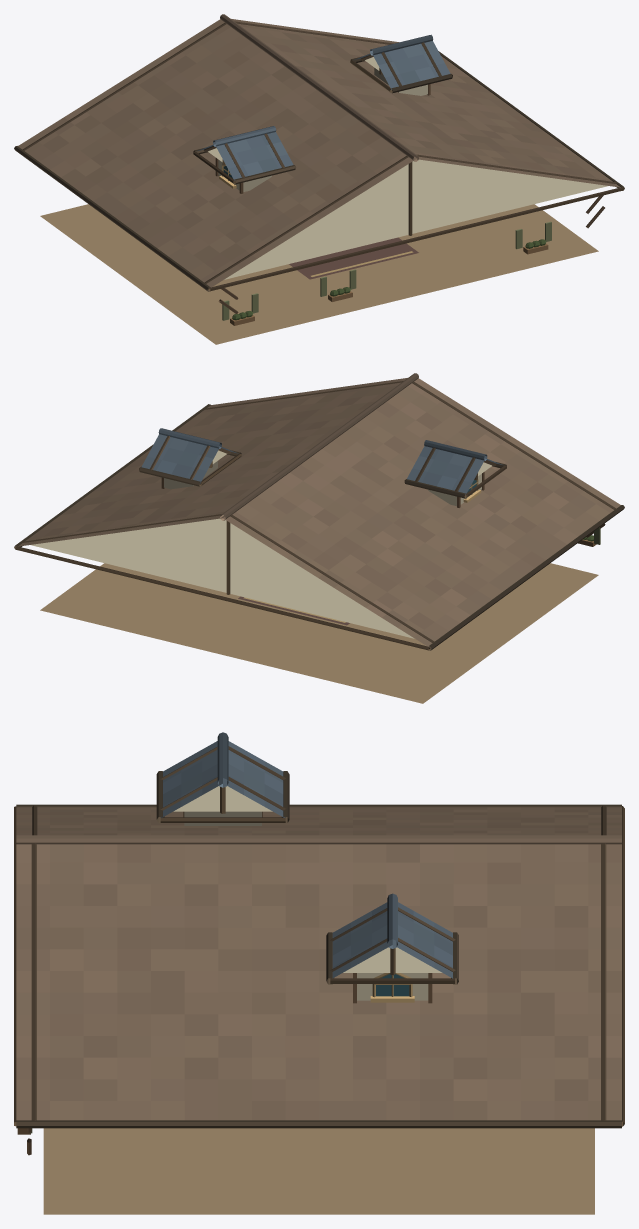
3 renders of one model, top to bottom at view 1: azimuth 30°, elevation 25°; view 2: azimuth 150°, elevation 25°; view 3: azimuth 270°, elevation 25°, orthographic. The views are drawn at different scales.
Parts seen in each view (by area): view 1: deb3d456d2203917041d7b0bd0b5ac2647d5f5d5bece2a6b1678ffbbf3f2; view 2: deb3d456d2203917041d7b0bd0b5ac2647d5f5d5bece2a6b1678ffbbf3f2; view 3: deb3d456d2203917041d7b0bd0b5ac2647d5f5d5bece2a6b1678ffbbf3f2.
Part boxes in pixels (x1,y1,x2,y2): deb3d456d2203917041d7b0bd0b5ac2647d5f5d5bece2a6b1678ffbbf3f2: (14, 14, 624, 344); deb3d456d2203917041d7b0bd0b5ac2647d5f5d5bece2a6b1678ffbbf3f2: (14, 373, 624, 703); deb3d456d2203917041d7b0bd0b5ac2647d5f5d5bece2a6b1678ffbbf3f2: (14, 732, 624, 1214).
Bounding box in the file's own units: 16.02 × 5.45 × 12.97.
6 materials, 1 textured.
